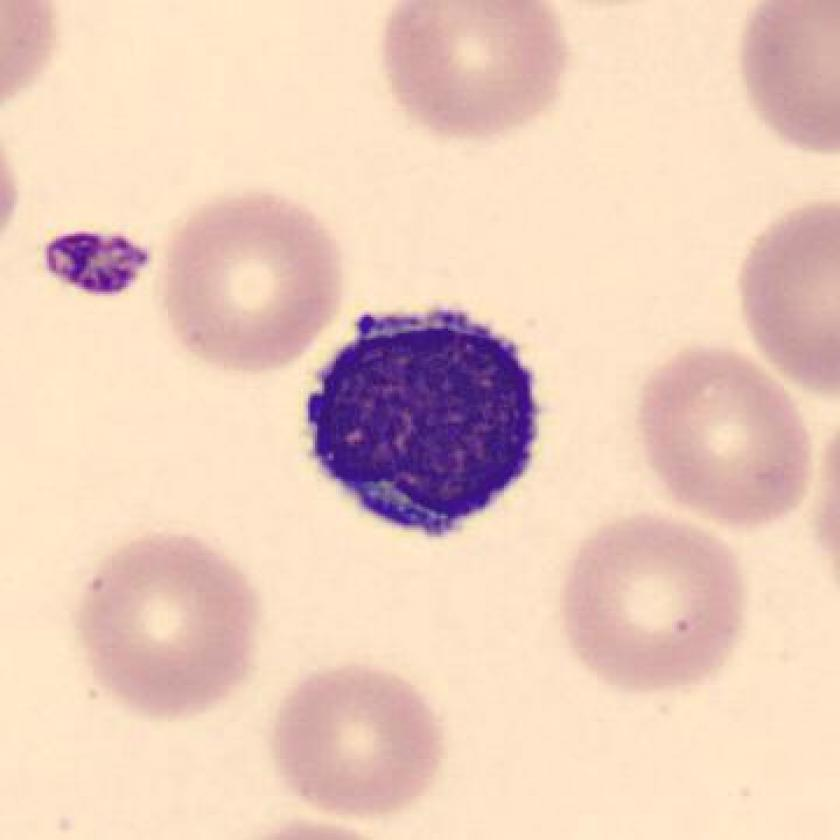lymphocyte: (293, 290, 554, 552)
platelets: (40, 231, 157, 307)
